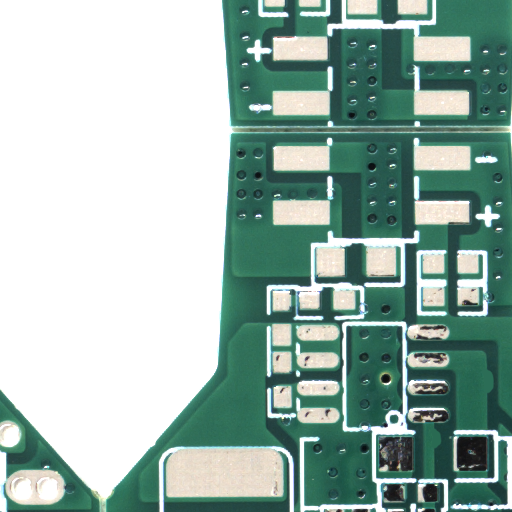Spur: (489, 381, 498, 405), (436, 439, 445, 460)
